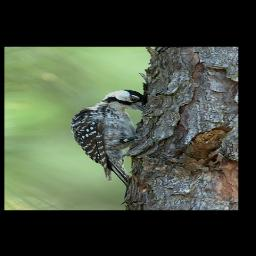Woodpecker: (68, 90, 147, 186)
